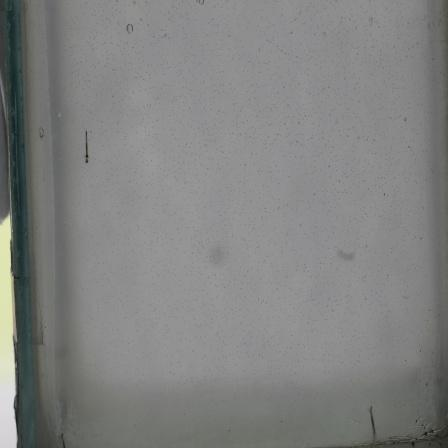Jentik-Nyamuk: (366, 402, 379, 439), (80, 128, 92, 165)
